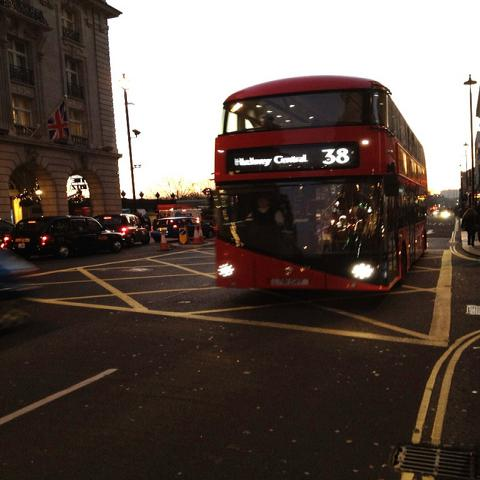bus: (205, 73, 433, 296)
car: (1, 217, 128, 262), (93, 214, 150, 248), (150, 215, 216, 241)
